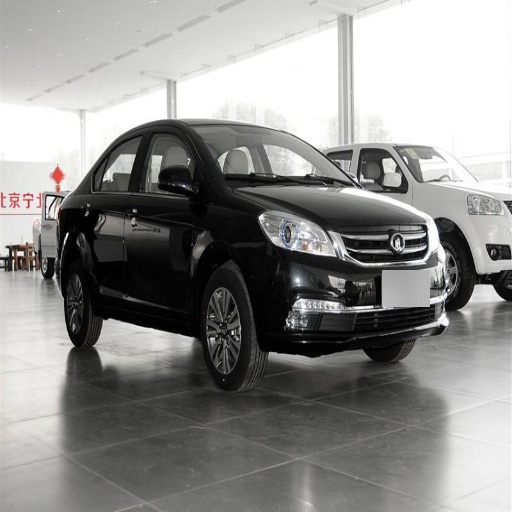front_bumper: (248, 222, 458, 354)
front_right_door: (127, 123, 204, 307)
front_right_light: (258, 207, 334, 254)
